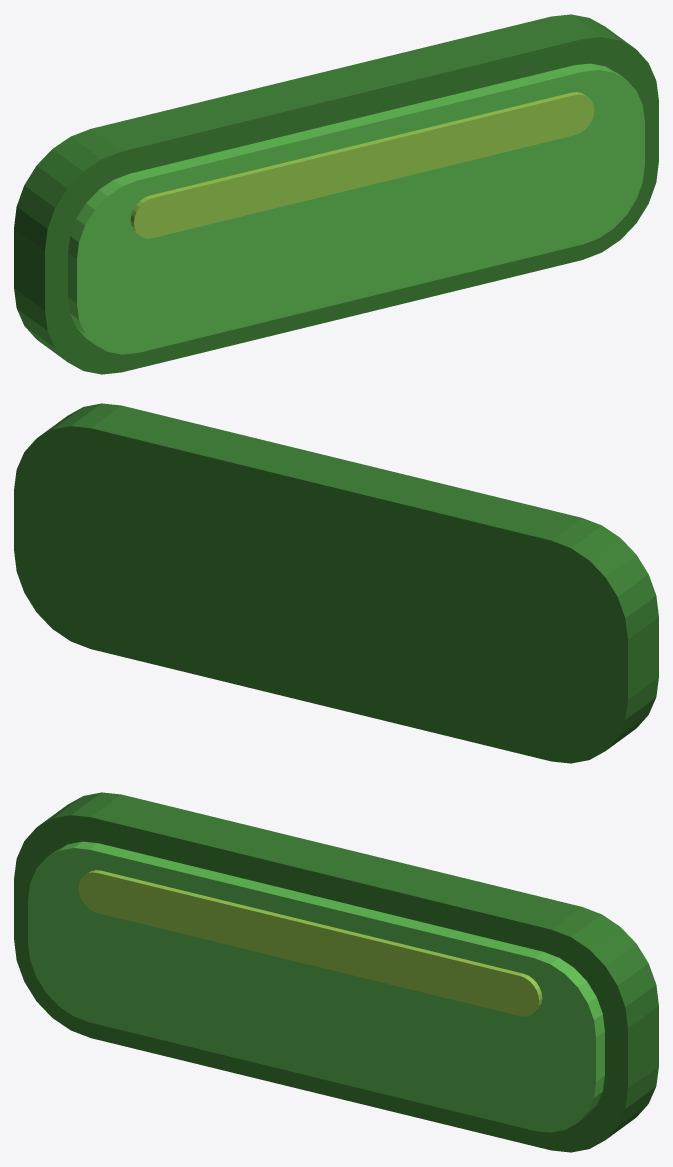
The model's file is boton_verde.glb.
3 renders of one model, top to bottom at view 1: azimuth 30°, elevation 25°; view 2: azimuth 150°, elevation 25°; view 3: azimuth 330°, elevation 25°, orthographic.
Visible parts, largest first — view 1: boton_verde_ui_verde, boton_verde_ui_verde_osc, boton_verde_hoja_clara; view 2: boton_verde_ui_verde_osc; view 3: boton_verde_ui_verde, boton_verde_ui_verde_osc, boton_verde_hoja_clara.
Boxes of the visible parts, x1=… form: boton_verde_ui_verde: x1=68, y1=63, x2=644, y2=354; boton_verde_ui_verde_osc: x1=14, y1=14, x2=658, y2=374; boton_verde_hoja_clara: x1=130, y1=92, x2=594, y2=238; boton_verde_ui_verde_osc: x1=14, y1=403, x2=658, y2=763; boton_verde_ui_verde: x1=28, y1=841, x2=604, y2=1132; boton_verde_ui_verde_osc: x1=14, y1=792, x2=658, y2=1152; boton_verde_hoja_clara: x1=78, y1=870, x2=542, y2=1016.
Size of the model in its own units: 1.6 by 0.55 by 0.195.
